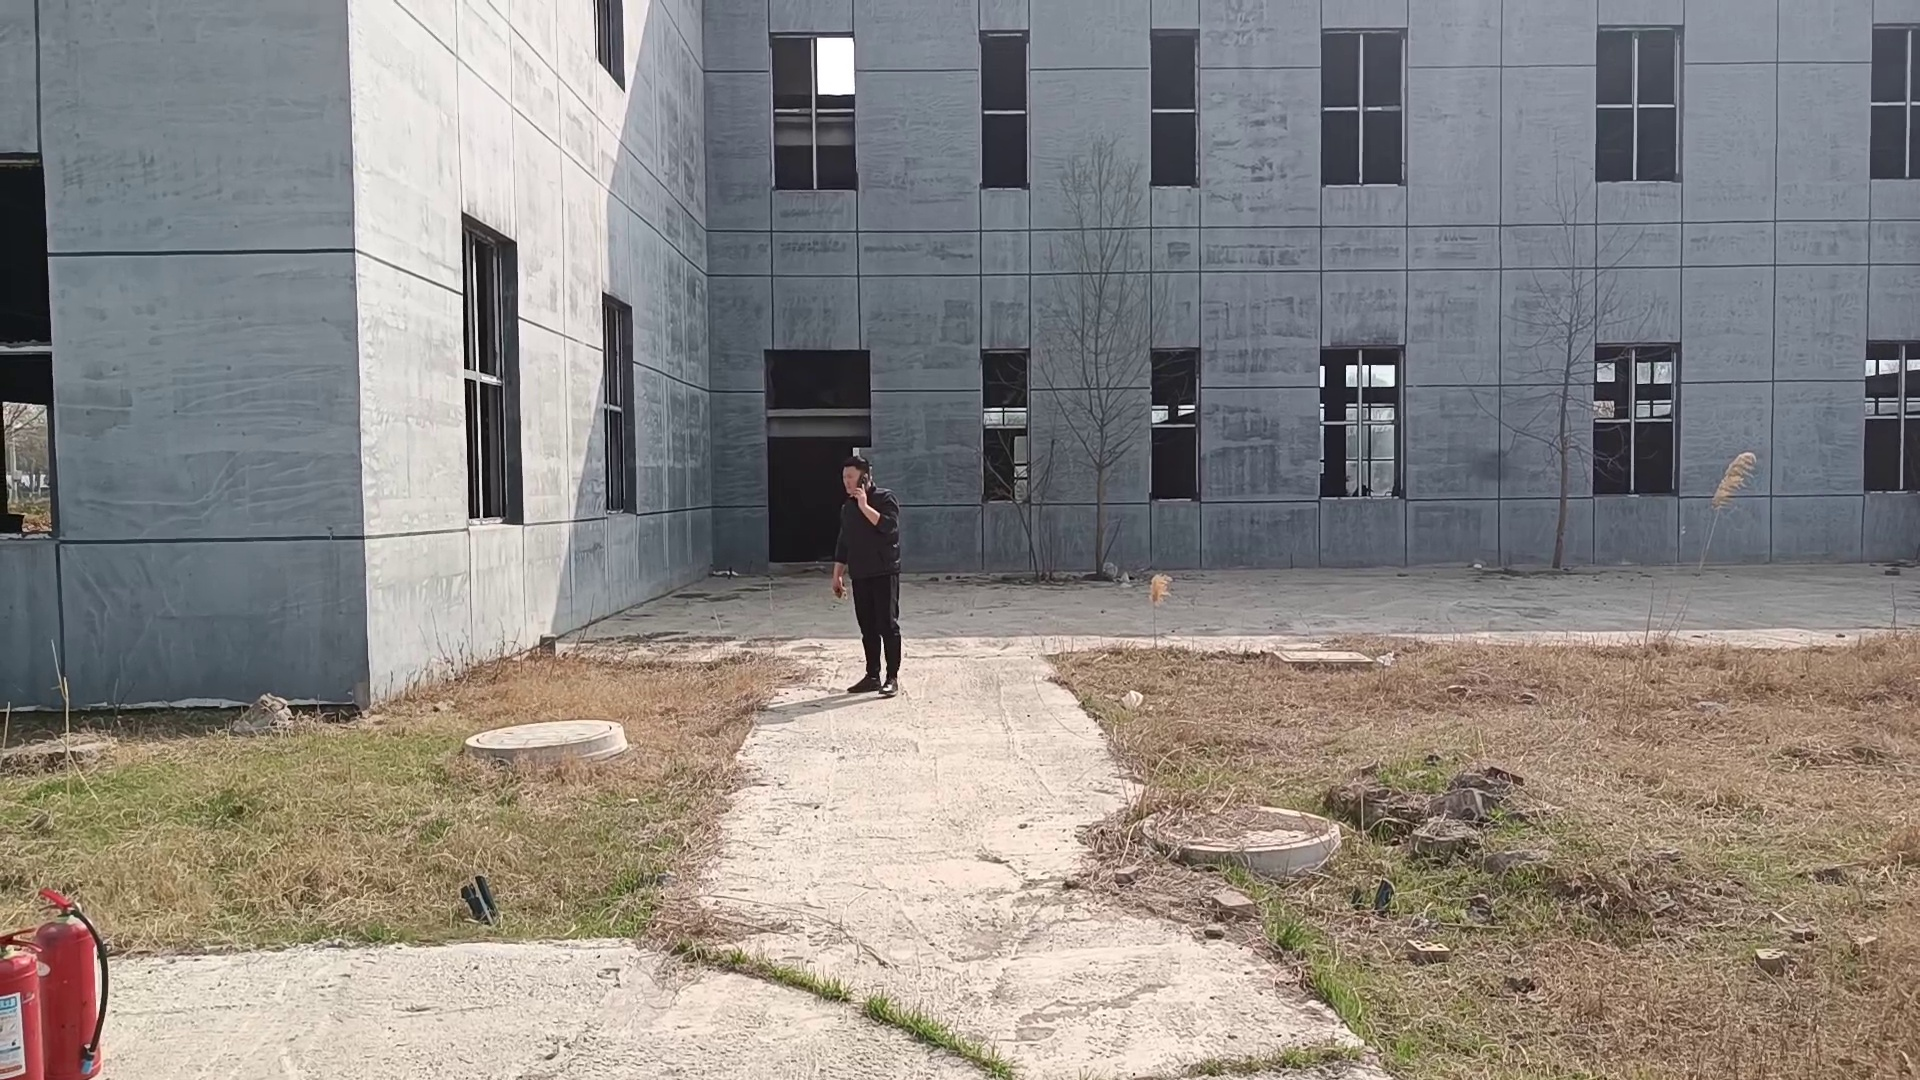phone: (831, 452, 874, 502)
